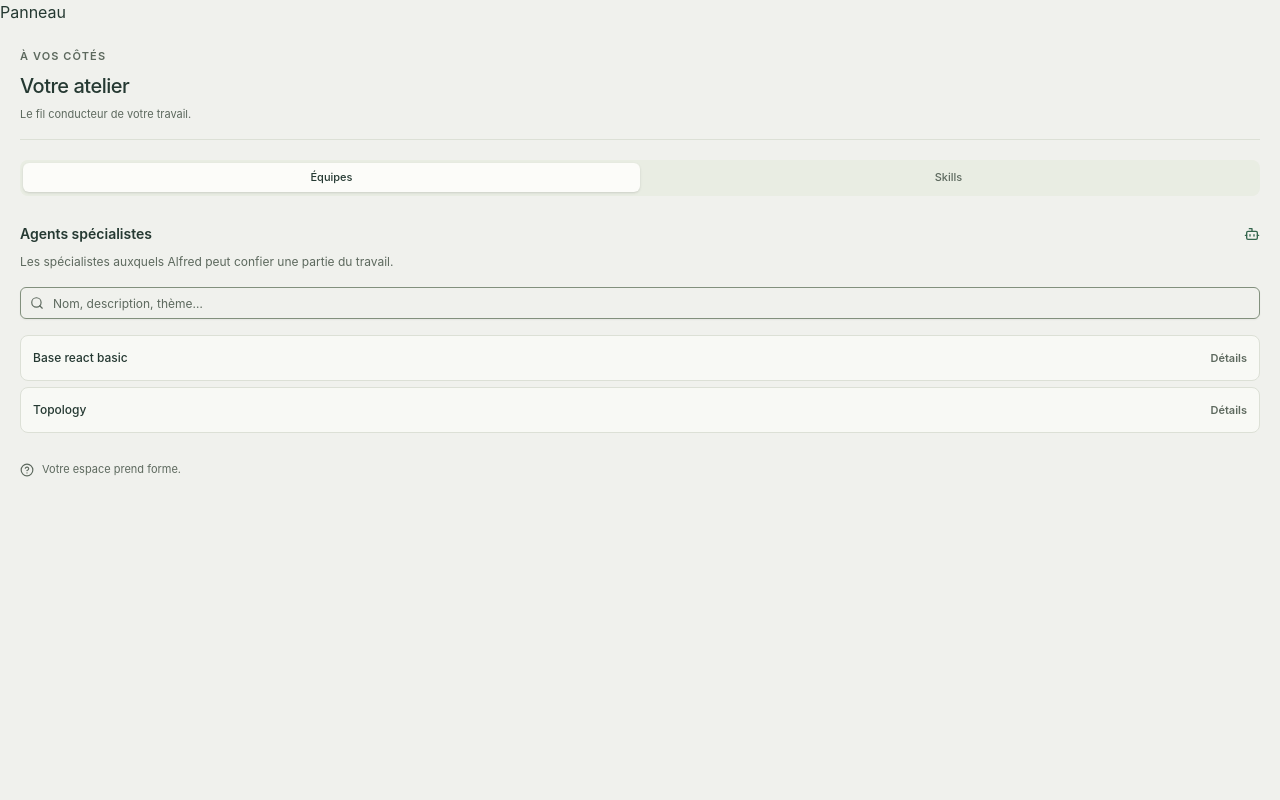
Test: Équipes tab behind the teams capability › lists the sub-agents compactly and shows their details in a dialog
The width and height of the screenshot is (1280, 800).
expect the heading "Topology" is shown: met, box [33,402,86,418]
expect the heading "Base react basic" is shown: met, box [33,350,128,366]
Click the button with aria-label "Détails de Topology" at (1229, 410), box [1202,392,1255,428]
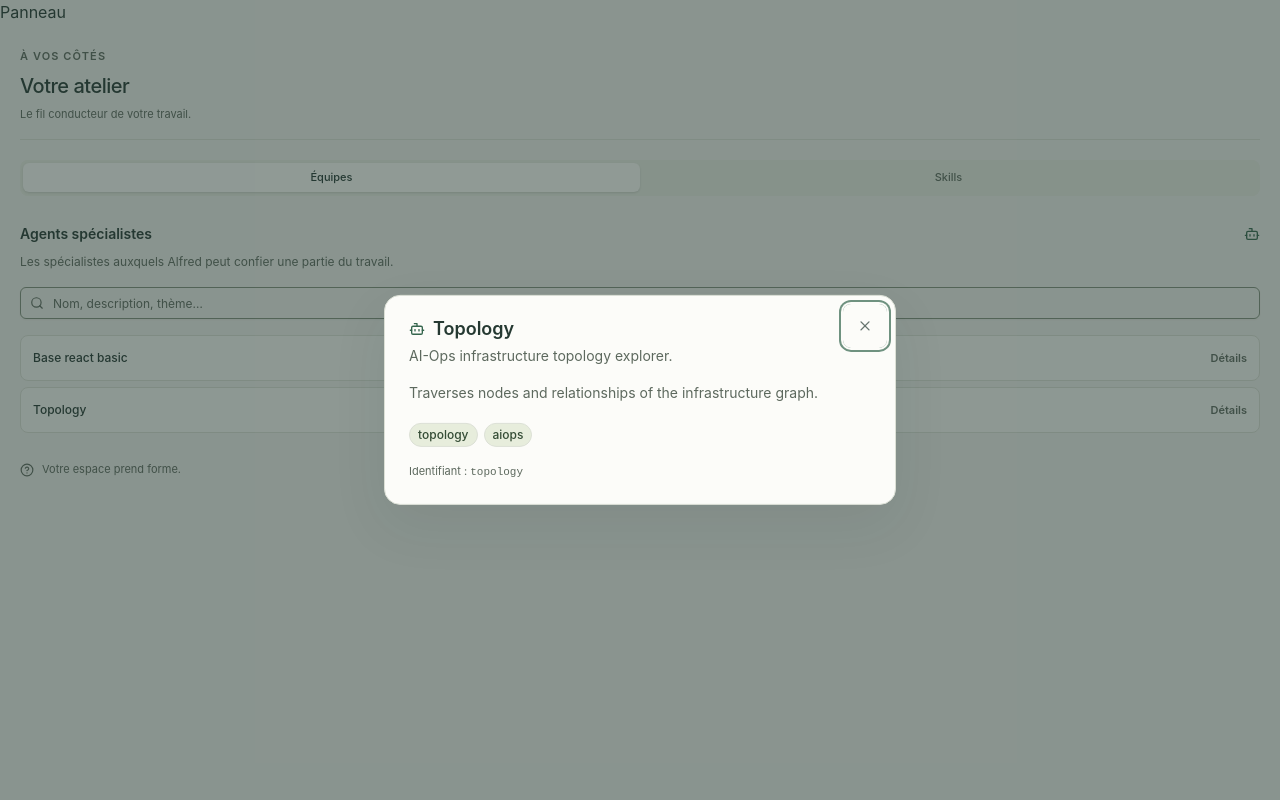
expect the dialog "Topology" shows "AI-Ops infrastructure topology explorer.": met, box [409,347,672,364]
expect the dialog "Topology" shows "Traverses nodes and relationships": met, box [409,384,818,401]
expect the list named "Thèmes de Topology" reads "topology aiops": met, box [409,423,532,447]
Press Escape
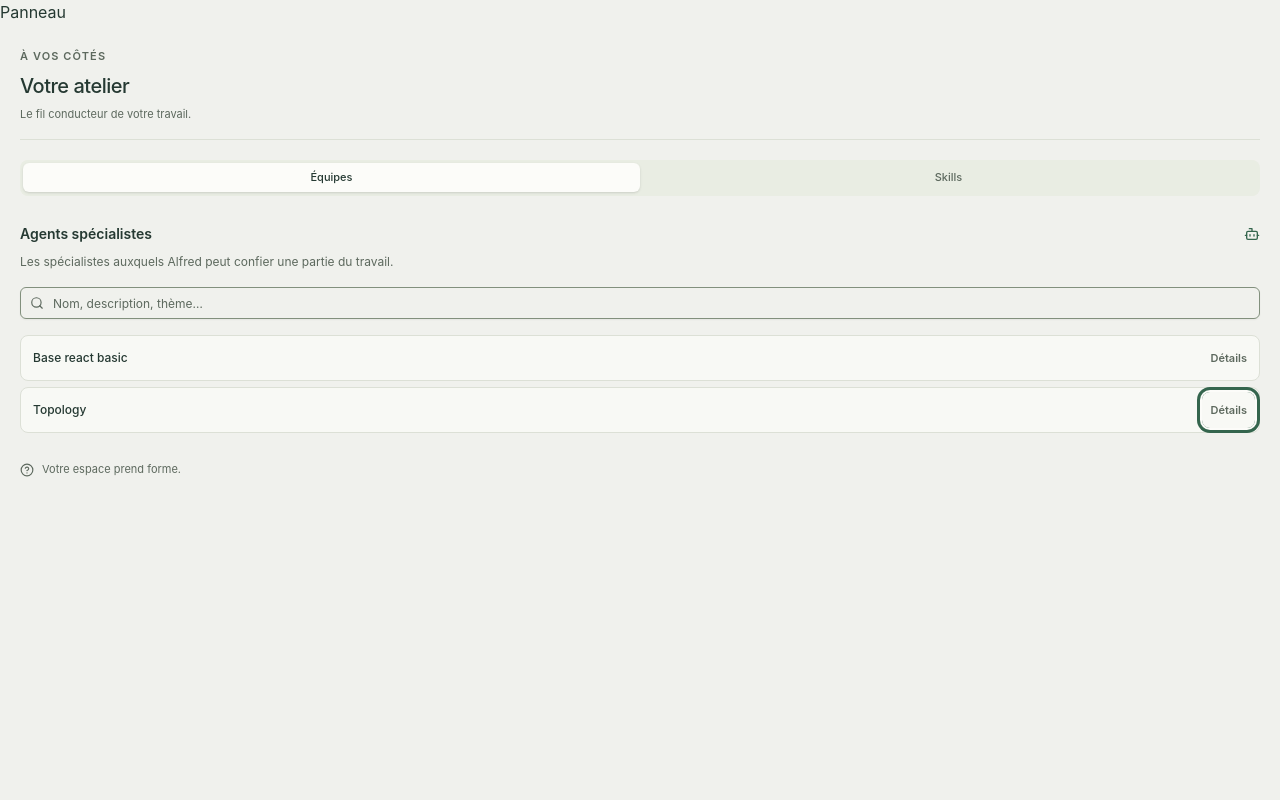
expect the dialog is gone: met
